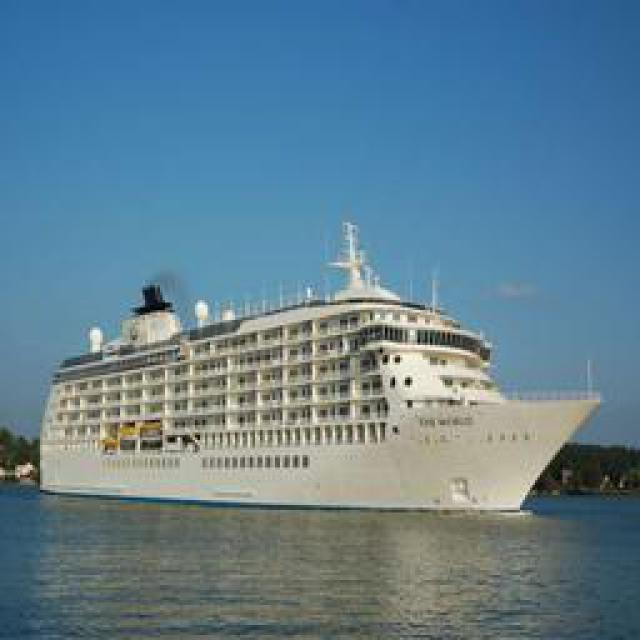Ship: (35, 233, 600, 518)
